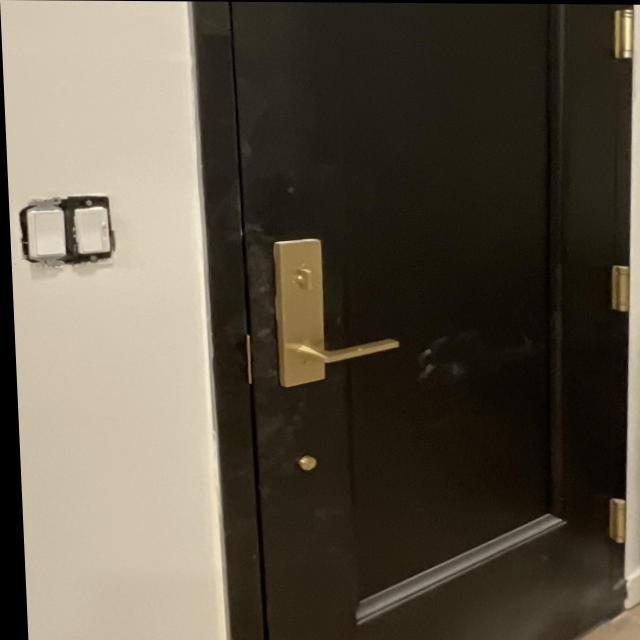door_handle: (278, 317, 410, 387)
